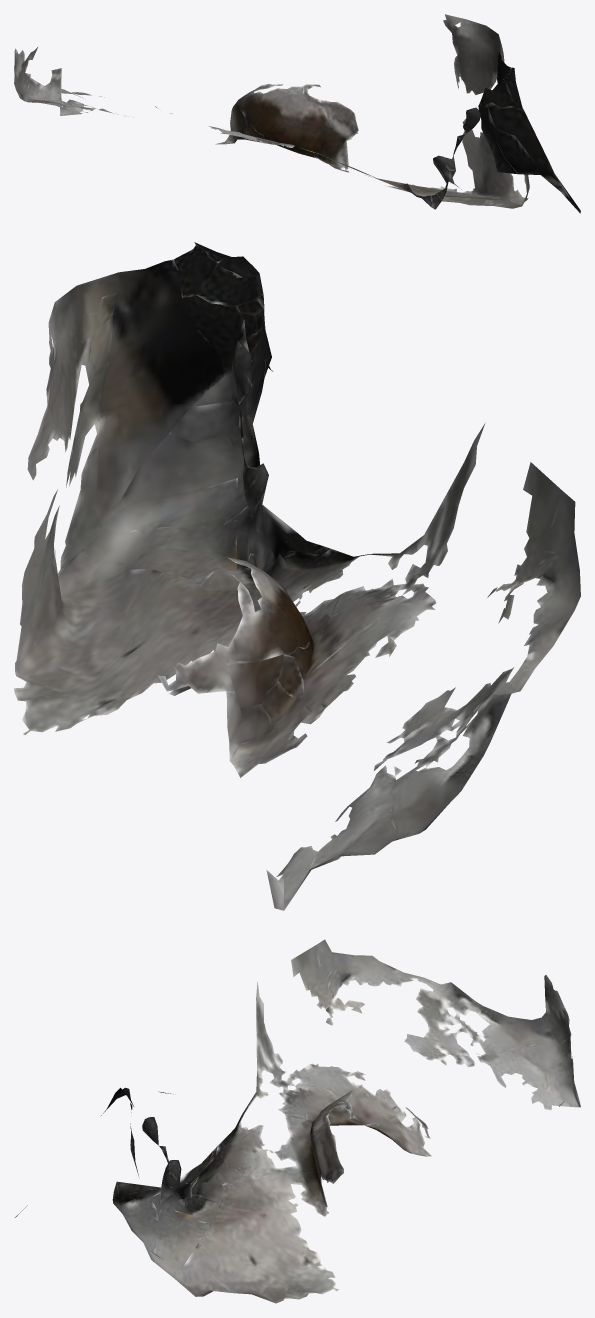
Rendered from hall.glb.
3 views of the same model, one above another, from view 1: azimuth 30°, elevation 25°; view 2: azimuth 150°, elevation 25°; view 3: azimuth 270°, elevation 25° (orthographic). The views are drawn at different scales.
Size of the model in its own units: 0.6583 by 0.3292 by 0.837.
1 material, 1 textured.
